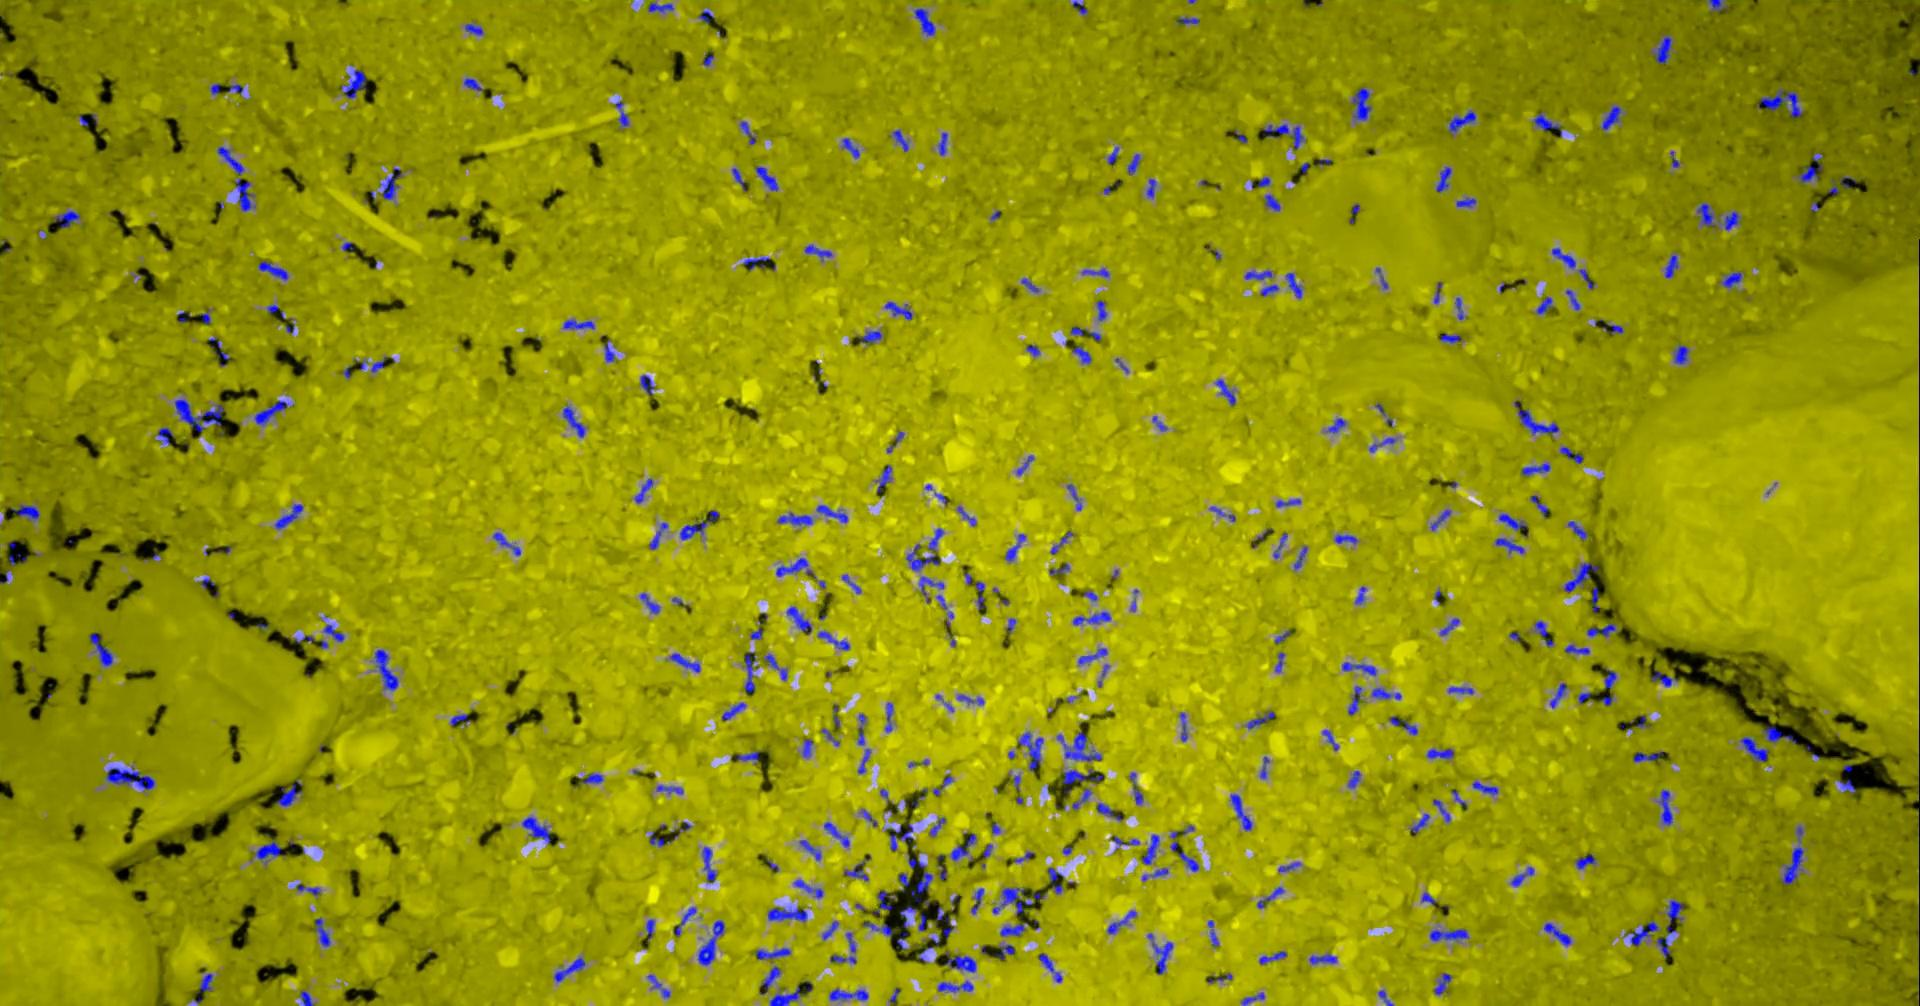ant: (216, 145, 254, 211), (905, 528, 943, 570), (174, 399, 223, 431), (1514, 401, 1558, 434), (697, 920, 724, 965), (1757, 89, 1801, 117), (1063, 730, 1101, 761), (1170, 831, 1197, 871), (908, 857, 932, 904), (679, 511, 717, 539), (1563, 561, 1597, 592), (105, 767, 154, 789), (1262, 123, 1303, 149), (1147, 934, 1172, 974), (1062, 768, 1103, 793), (1018, 730, 1043, 770), (375, 649, 397, 690), (897, 904, 917, 949), (1001, 887, 1032, 915), (1780, 846, 1803, 884), (521, 815, 550, 843), (552, 956, 585, 981), (1628, 920, 1658, 945), (254, 400, 286, 424), (378, 166, 401, 199), (89, 633, 112, 666), (964, 572, 984, 608), (1797, 152, 1822, 182), (274, 503, 303, 528), (1230, 794, 1251, 829), (770, 984, 805, 1005), (276, 780, 302, 807), (823, 821, 850, 847), (1533, 111, 1561, 136), (786, 606, 811, 634), (1740, 735, 1768, 761), (342, 69, 366, 98), (1037, 953, 1062, 982), (563, 405, 584, 437), (950, 833, 975, 860), (1107, 909, 1135, 934), (491, 532, 521, 555), (673, 906, 695, 936), (775, 558, 811, 575), (943, 951, 975, 972), (889, 823, 913, 850), (1543, 922, 1571, 945), (207, 337, 229, 366), (1352, 86, 1371, 119), (817, 630, 850, 649), (193, 973, 212, 1005), (913, 8, 935, 36), (255, 840, 284, 860), (1763, 725, 1796, 743), (754, 166, 778, 191), (258, 260, 288, 279), (764, 653, 786, 680), (1256, 887, 1283, 908), (1448, 111, 1476, 131), (1004, 533, 1025, 561), (767, 907, 808, 921), (759, 967, 780, 995), (1388, 715, 1417, 734), (792, 879, 822, 898), (1599, 105, 1622, 130), (1666, 901, 1683, 934), (1215, 379, 1236, 405), (817, 504, 847, 522), (701, 846, 716, 882), (1550, 246, 1575, 268), (872, 890, 894, 915), (1142, 835, 1159, 864), (744, 652, 757, 692), (648, 522, 667, 549), (1534, 620, 1553, 647), (670, 653, 698, 671), (1658, 789, 1672, 824), (1050, 531, 1072, 554), (648, 974, 669, 997), (844, 860, 869, 880), (1510, 866, 1534, 887), (1697, 202, 1716, 227), (918, 575, 943, 594), (1072, 611, 1110, 624), (1498, 513, 1528, 530), (314, 917, 330, 946), (1341, 661, 1375, 674), (884, 301, 910, 319), (1655, 36, 1671, 64), (1078, 647, 1106, 663), (1096, 803, 1121, 821), (1429, 929, 1468, 940), (10, 504, 39, 520), (862, 921, 891, 936), (1129, 772, 1143, 804), (1285, 272, 1302, 298), (1247, 711, 1274, 728), (639, 592, 659, 614), (1070, 788, 1091, 809), (799, 840, 820, 860), (777, 512, 811, 525), (829, 988, 867, 1000), (55, 210, 79, 227), (634, 478, 651, 502), (1495, 537, 1523, 553), (1347, 685, 1361, 715), (1430, 509, 1450, 530), (1567, 520, 1587, 540), (1432, 973, 1451, 995), (1586, 622, 1615, 636), (1369, 437, 1396, 452), (1559, 446, 1582, 464), (876, 465, 891, 492), (1065, 484, 1081, 511), (1651, 671, 1677, 686), (1549, 683, 1566, 708), (721, 702, 745, 719), (756, 948, 790, 959), (1258, 950, 1286, 964), (1436, 166, 1451, 192), (933, 775, 952, 795), (1410, 813, 1429, 833), (1048, 868, 1063, 893), (323, 624, 344, 641), (1432, 799, 1450, 821), (739, 121, 756, 144), (804, 244, 830, 258), (999, 922, 1029, 935), (1272, 533, 1288, 558), (841, 574, 860, 593), (937, 981, 973, 991), (891, 130, 908, 151), (742, 257, 770, 269), (1520, 464, 1550, 475), (1072, 345, 1091, 363), (957, 506, 975, 525), (615, 102, 629, 126), (842, 137, 858, 158), (1721, 271, 1741, 287), (1016, 455, 1032, 475), (1530, 495, 1547, 516), (1439, 619, 1459, 635), (1322, 729, 1338, 749), (1371, 687, 1401, 699), (1578, 268, 1594, 290), (649, 831, 670, 846), (1656, 936, 1671, 958), (993, 944, 1015, 959), (857, 748, 870, 774), (1472, 781, 1497, 794), (1142, 868, 1167, 880), (731, 168, 745, 191), (822, 920, 838, 939), (1672, 344, 1688, 365), (1632, 751, 1662, 761), (1575, 854, 1595, 869), (857, 330, 881, 343), (295, 883, 319, 895), (971, 888, 983, 915), (1309, 953, 1336, 964), (1663, 255, 1677, 277), (370, 356, 387, 372), (1327, 417, 1345, 433), (1564, 290, 1580, 309), (1293, 546, 1305, 569), (1241, 992, 1263, 1005), (640, 373, 654, 394), (563, 319, 594, 328), (1604, 667, 1617, 688), (1537, 296, 1553, 312), (157, 427, 173, 445), (1426, 748, 1453, 758), (930, 817, 945, 835), (1208, 920, 1218, 946), (1724, 211, 1738, 230), (957, 694, 983, 704), (1081, 268, 1109, 277), (1178, 713, 1187, 741), (1837, 779, 1855, 793), (1128, 152, 1139, 174), (1564, 644, 1589, 654), (463, 23, 483, 36), (463, 77, 483, 90), (857, 713, 865, 744), (1244, 271, 1271, 279), (1707, 0, 1727, 11), (937, 132, 947, 155), (1263, 194, 1279, 210), (1603, 323, 1623, 334), (1049, 563, 1069, 574), (298, 989, 314, 1005), (648, 3, 673, 11), (1275, 498, 1300, 507), (657, 784, 682, 793), (829, 954, 855, 963), (1439, 332, 1460, 342), (450, 714, 469, 725), (1072, 0, 1087, 14), (1145, 178, 1156, 198), (1096, 300, 1106, 320), (604, 340, 615, 361), (1335, 533, 1357, 542), (1354, 586, 1365, 603), (735, 751, 758, 760), (1347, 770, 1359, 788), (1277, 862, 1300, 871), (1457, 197, 1476, 207), (1448, 686, 1473, 694), (936, 906, 949, 921), (1454, 297, 1463, 319), (645, 920, 654, 941), (885, 702, 891, 732), (1107, 146, 1117, 164), (1251, 177, 1269, 187), (1260, 285, 1277, 295), (582, 774, 602, 782), (898, 873, 908, 890), (698, 10, 712, 23), (1176, 17, 1199, 24), (1591, 586, 1597, 611), (803, 738, 811, 756), (1840, 177, 1855, 187)
